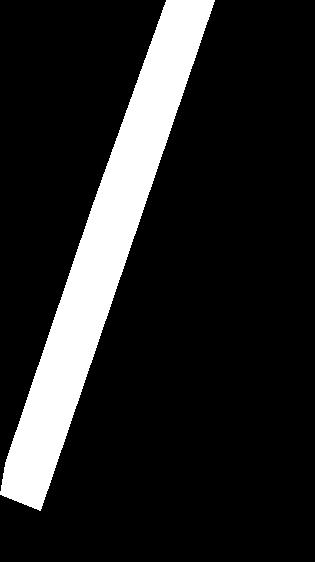parkingspot: (0, 0, 214, 510)
